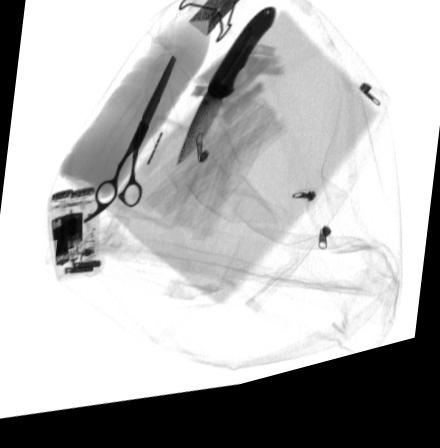Knife: (172, 22, 275, 177)
Scissors: (78, 64, 174, 230)
